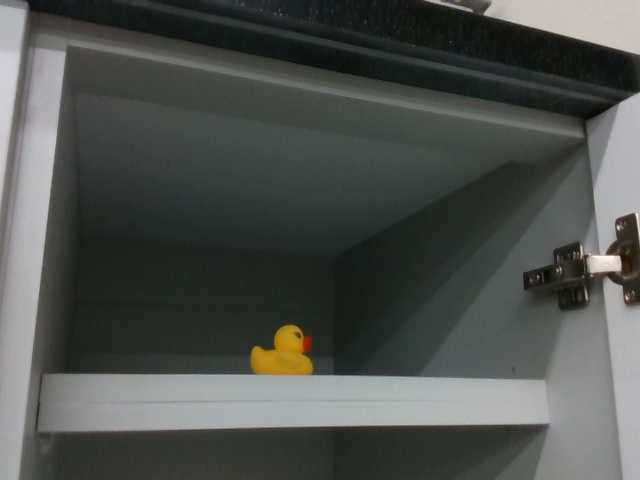duck: (248, 320, 318, 376)
